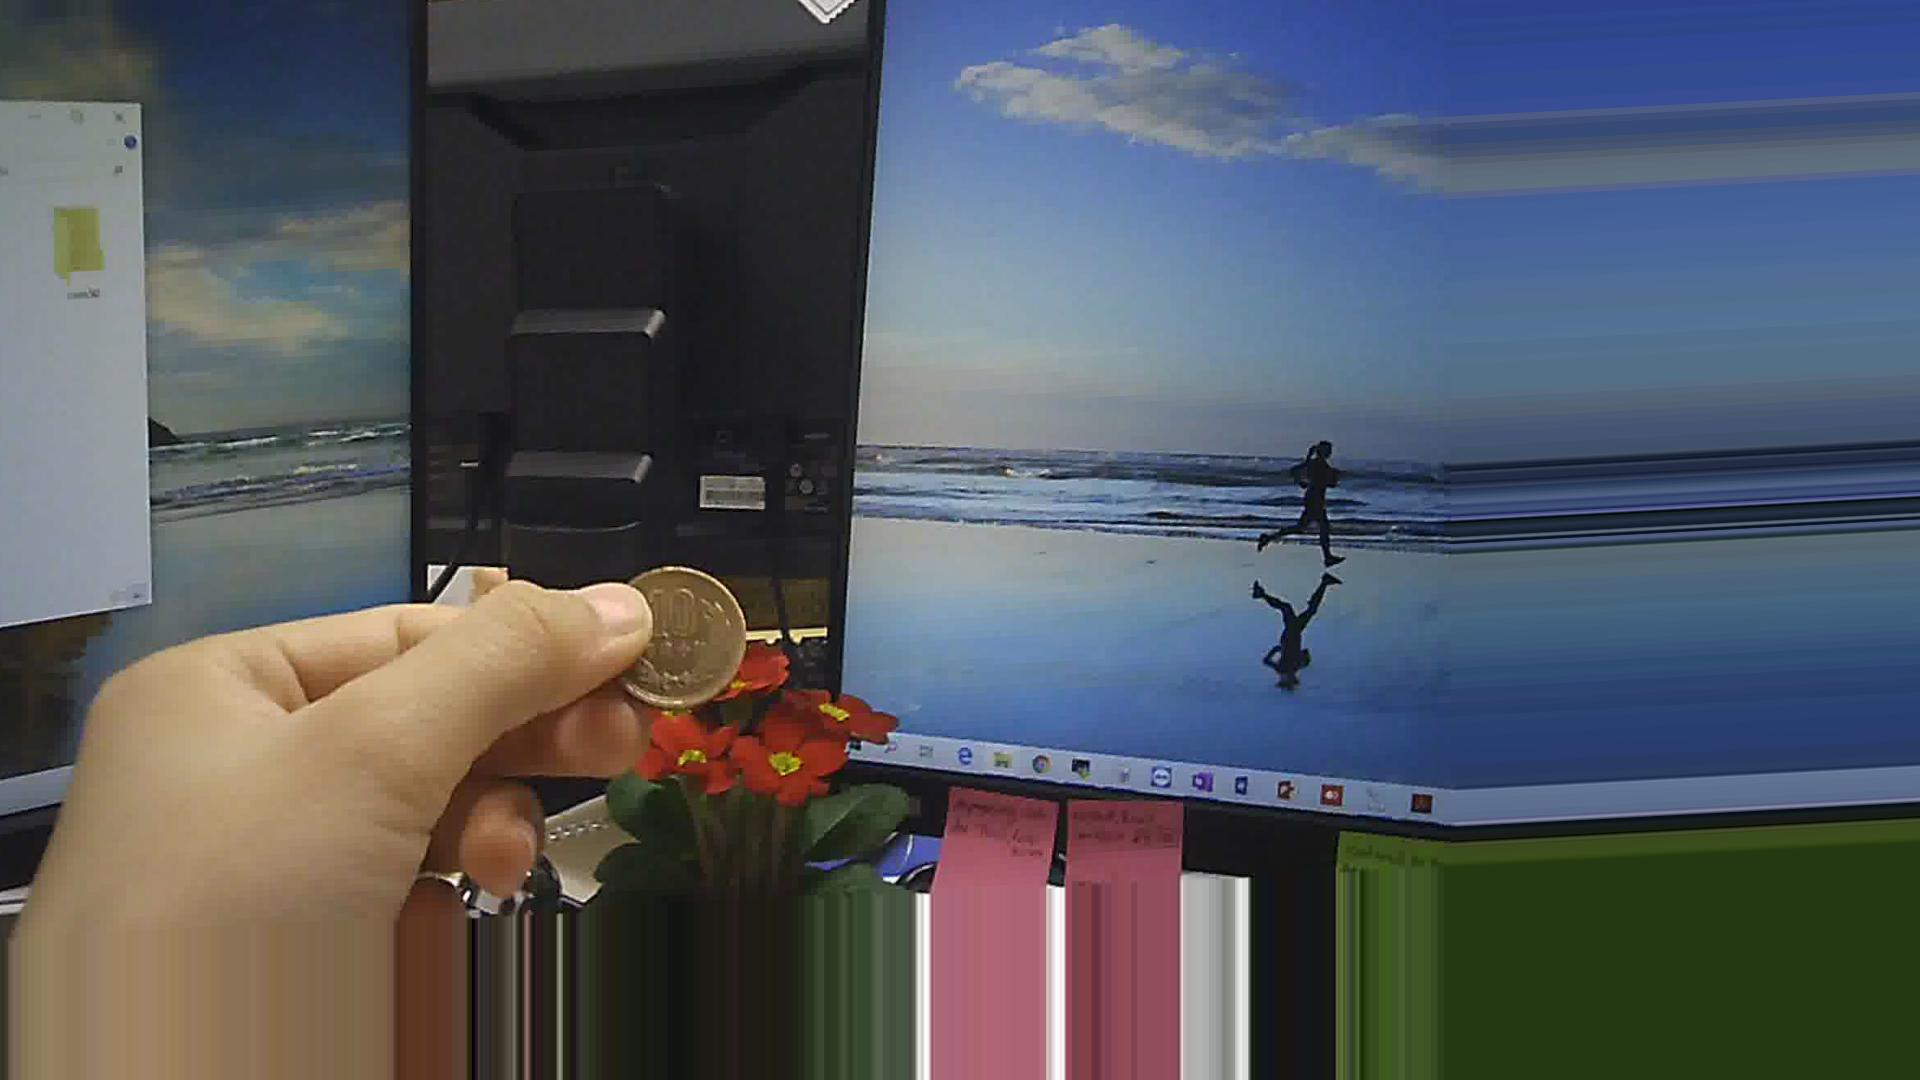10 Yen: (611, 556, 756, 709)
